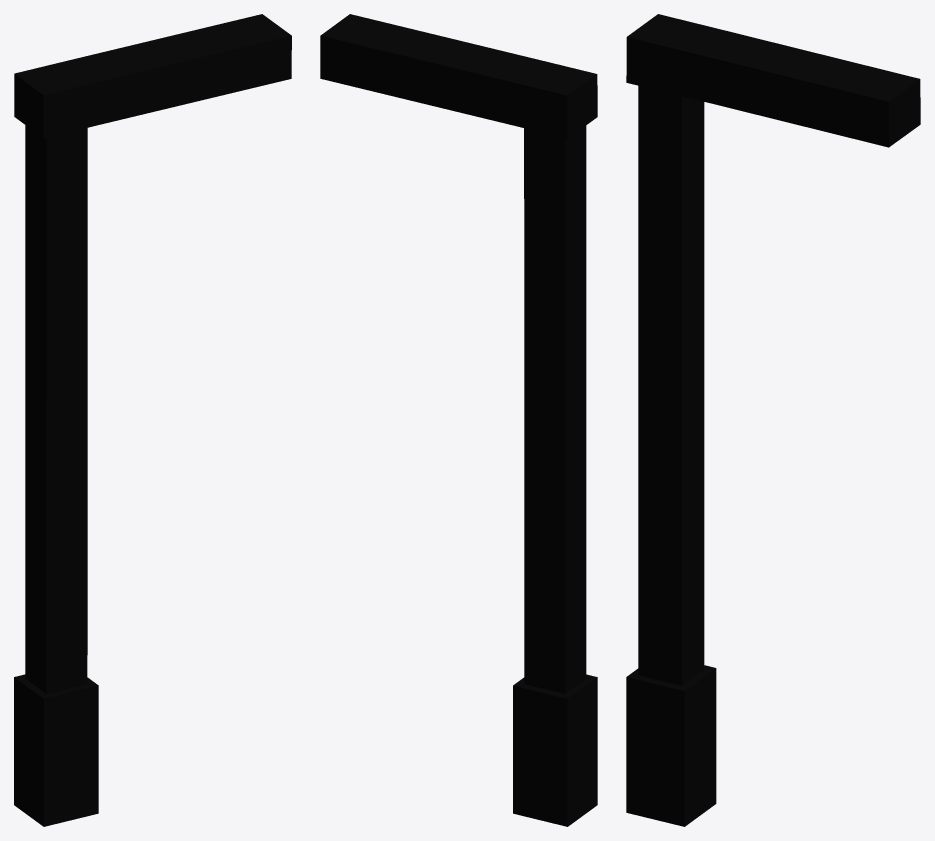
The model's file is Lamp.glb.
The picture shows the model from 3 angles, left to right: view 1: azimuth 30°, elevation 25°; view 2: azimuth 150°, elevation 25°; view 3: azimuth 330°, elevation 25°; orthographic projection. The views are drawn at different scales.
Parts seen in each view (by area): view 1: Cube; view 2: Cube; view 3: Cube.
Part boxes in pixels (x1,y1,x2,y2): Cube: (14,14,291,826); Cube: (320,14,597,826); Cube: (626,14,920,826).
Size of the model in its own units: 4.05 by 11.42 by 0.8484.
Materials: 1 (1 with a texture image).
